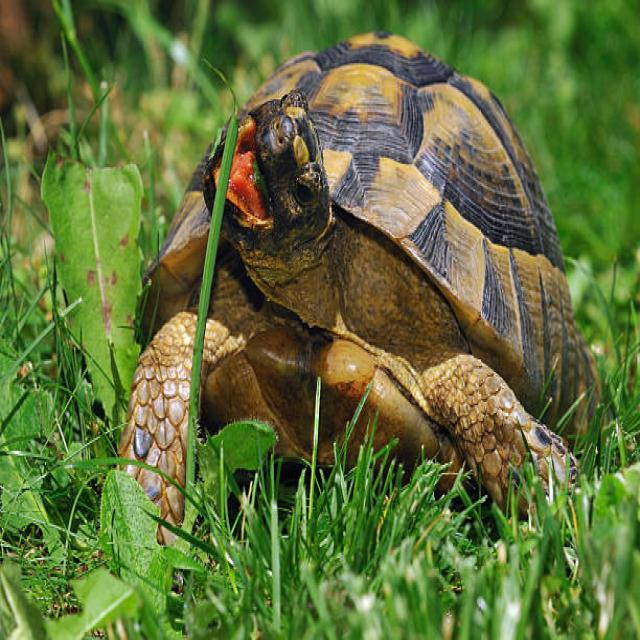tortoise: (159, 27, 560, 352), (371, 334, 573, 531), (201, 75, 332, 294), (120, 305, 221, 559)
